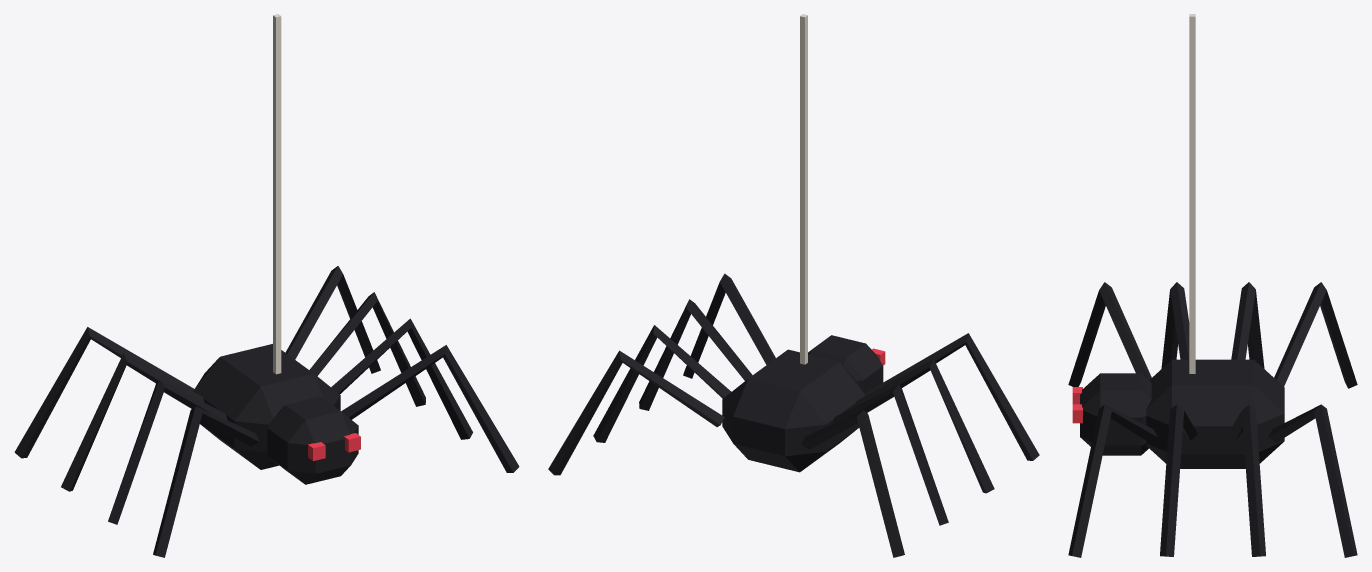
The model's file is HangingSpider.fbx.
3 views of the same model, side by side, from view 1: azimuth 30°, elevation 25°; view 2: azimuth 150°, elevation 25°; view 3: azimuth 270°, elevation 25° (orthographic). The views are drawn at different scales.
Visible parts, largest first — view 1: HangingSpider; view 2: HangingSpider; view 3: HangingSpider.
Part boxes in pixels (x1=…): HangingSpider: x1=14, y1=14, x2=519, y2=557; HangingSpider: x1=548, y1=14, x2=1039, y2=557; HangingSpider: x1=1068, y1=14, x2=1357, y2=557.
Size of the model in its own units: 4.13 by 4.93 by 2.83.
Materials: 1 (1 with a texture image).
